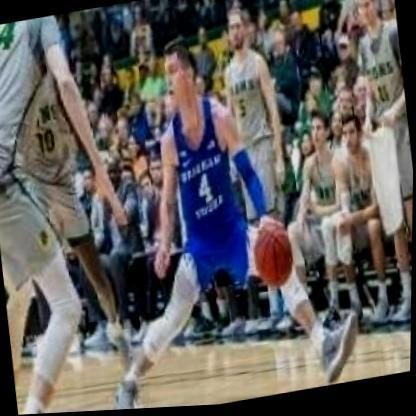basketball: (249, 221, 297, 291)
